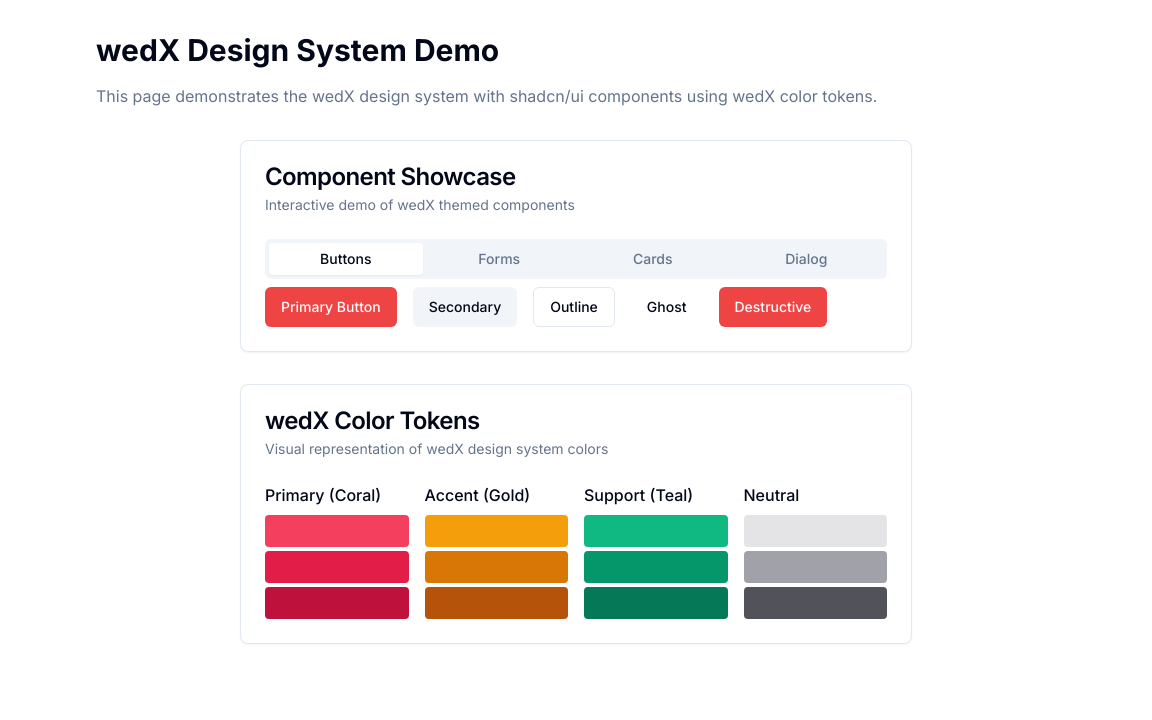
it: Design System Demo Page › renders functional dialog
This screenshot has width=1152, height=720.
Click the tab "Dialog": click(806, 259) [730,243,883,275]
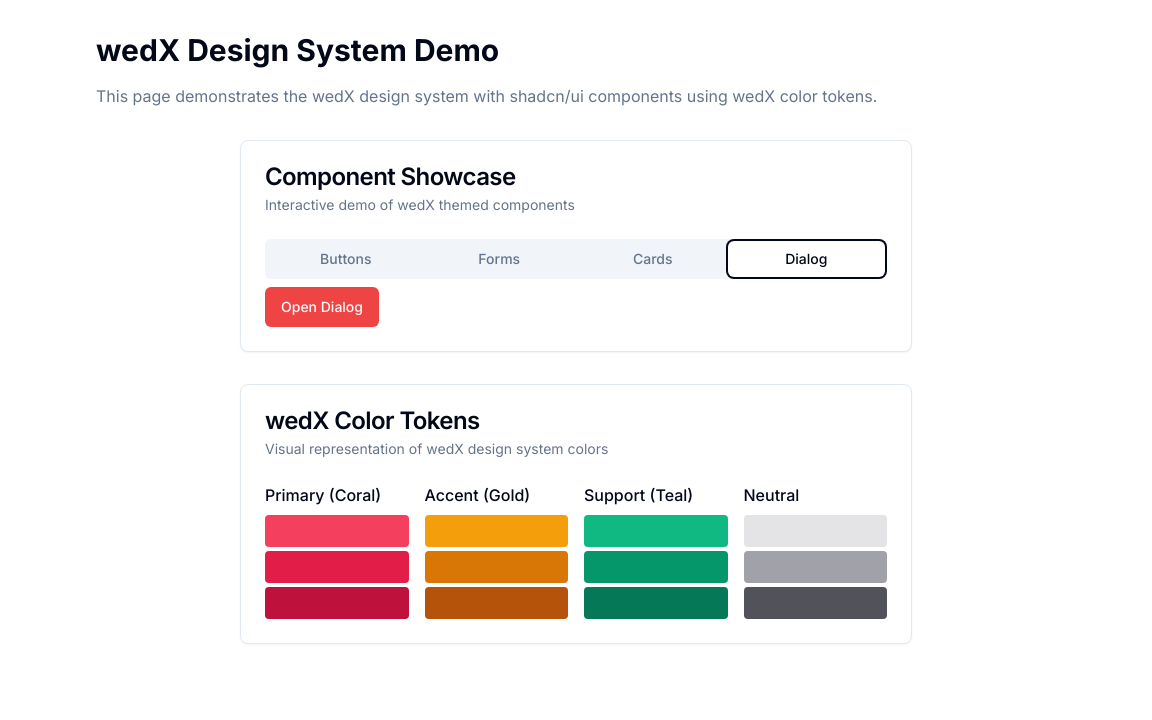
Click the button "Open Dialog": click(322, 307) [265,287,379,327]
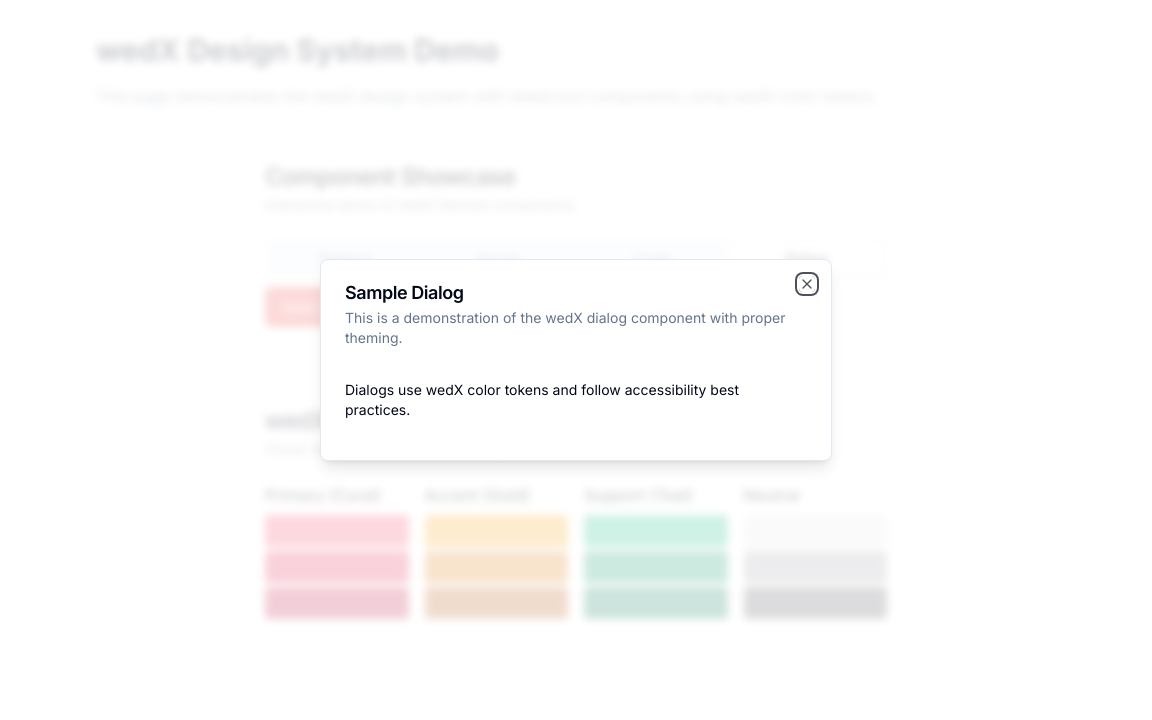
Result: the heading "Sample Dialog" is shown at [345,282,464,303]
Result: the text "This is a demonstration of the wedX dialog component with proper theming." is shown at [345,308,807,348]
